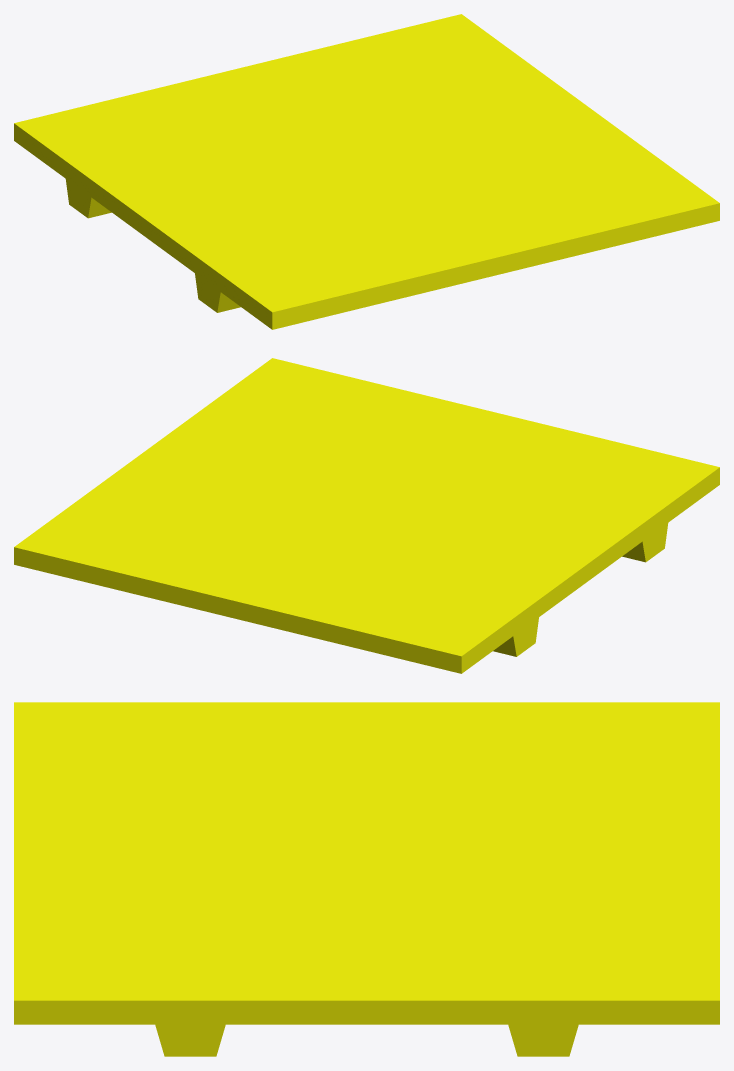
The model's file is kaykit-ceiling-tile.glb.
3 renders of one model, top to bottom at view 1: azimuth 30°, elevation 25°; view 2: azimuth 150°, elevation 25°; view 3: azimuth 270°, elevation 25°, orthographic. The views are drawn at different scales.
Visible parts, largest first — view 1: ceiling_tile; view 2: ceiling_tile; view 3: ceiling_tile.
Part boxes in pixels (box(x1,y1,x2,y2)): ceiling_tile: box(14, 14, 719, 329); ceiling_tile: box(14, 358, 719, 673); ceiling_tile: box(14, 702, 719, 1056).
Bounding box in the file's own units: 4 × 0.3501 × 4.
